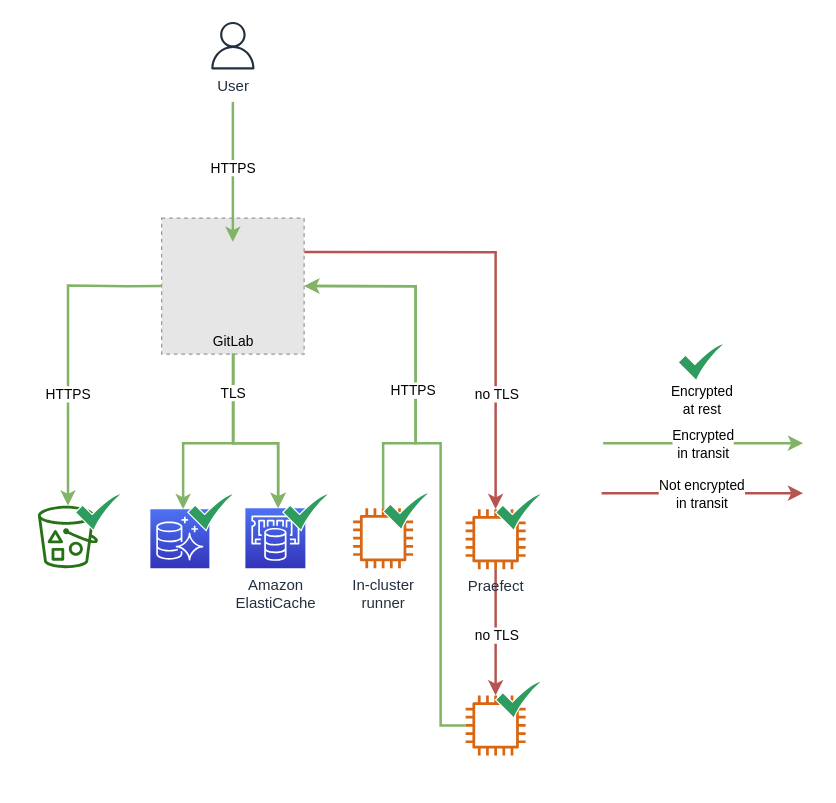
Some shapes in this 836 by 803 pixel diagram are drawn without their labels. Grey dashed boxes stand in for pictures. Here are the shapes that lost their labels. From the top down, the box of each, then its label:
(37, 505, 97, 568): Amazon S3 object storage
(149, 508, 209, 568): Amazon Aurora
(465, 695, 525, 755): Gitaly
